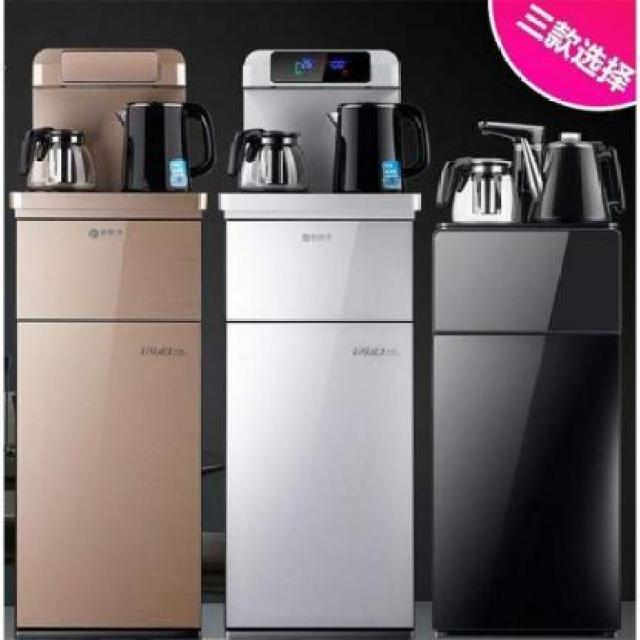cooler: (218, 47, 425, 640), (13, 46, 205, 640), (431, 118, 626, 640)
